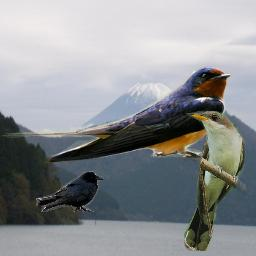Crow: (36, 171, 104, 212)
Cuckoo: (184, 111, 246, 251)
Swallow: (2, 64, 232, 163)
